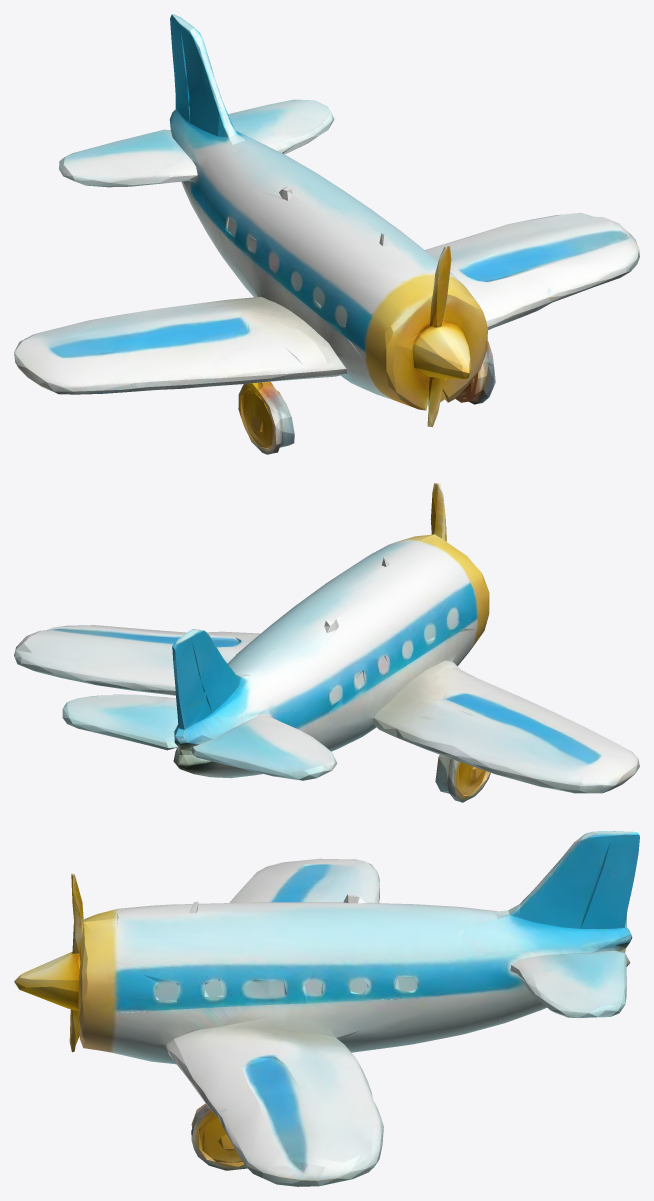
3 views of the same model, one above another, from view 1: azimuth 30°, elevation 25°; view 2: azimuth 150°, elevation 25°; view 3: azimuth 270°, elevation 25° (orthographic). The views are drawn at different scales.
Visible parts, largest first — view 1: model; view 2: model; view 3: model.
Boxes of the visible parts, box(x1,y1,x2,y2) form: model: box(14, 14, 639, 454); model: box(14, 483, 639, 802); model: box(14, 831, 639, 1186).
Bounding box in the file's own units: 1.9 × 0.8171 × 1.63.
1 material, 1 textured.
